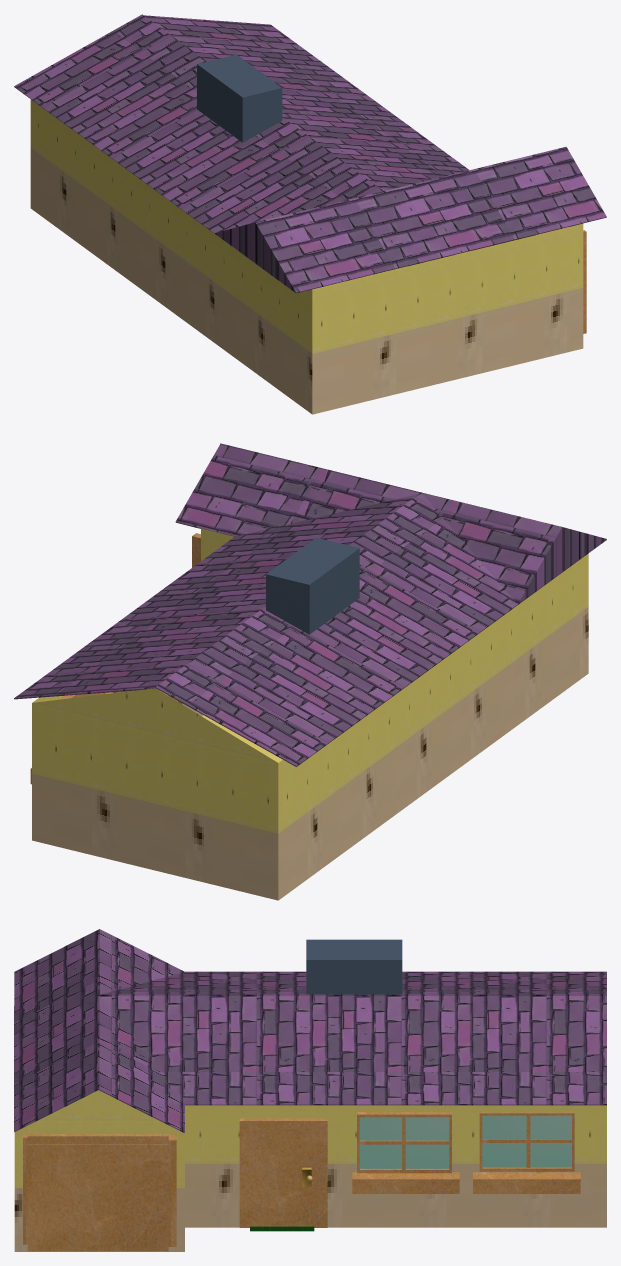
The model's file is casa2 - copia.obj.
3 renders of one model, top to bottom at view 1: azimuth 30°, elevation 25°; view 2: azimuth 150°, elevation 25°; view 3: azimuth 270°, elevation 25°, orthographic. The views are drawn at different scales.
Visible parts, largest first — view 1: Cube.001, Cube, Cube.003; view 2: Cube.001, Cube, Cube.003; view 3: Cube.001, Cube, Cube.002, Cube.014, Cube.003, Cube.012, Cube.011, Cube.004, Cube.008, Cube.006.
Part boxes in pixels (x1=…): Cube.001: x1=14, y1=14, x2=606, y2=293; Cube: x1=30, y1=99, x2=583, y2=414; Cube.003: x1=197, y1=54, x2=282, y2=142; Cube.001: x1=14, y1=443, x2=606, y2=766; Cube: x1=32, y1=528, x2=588, y2=900; Cube.003: x1=266, y1=537, x2=359, y2=634; Cube.001: x1=14, y1=929, x2=606, y2=1132; Cube: x1=14, y1=1090, x2=606, y2=1251; Cube.002: x1=23, y1=1134, x2=176, y2=1251; Cube.014: x1=239, y1=1118, x2=327, y2=1231; Cube.003: x1=306, y1=939, x2=402, y2=994; Cube.012: x1=473, y1=1172, x2=580, y2=1193; Cube.011: x1=352, y1=1172, x2=459, y2=1193; Cube.004: x1=357, y1=1112, x2=451, y2=1173; Cube.008: x1=479, y1=1112, x2=574, y2=1171; Cube.006: x1=359, y1=1140, x2=449, y2=1144.
Bounding box in the file's own units: 12.96 × 7.91 × 20.35.
Materials: 9 (9 with a texture image).
